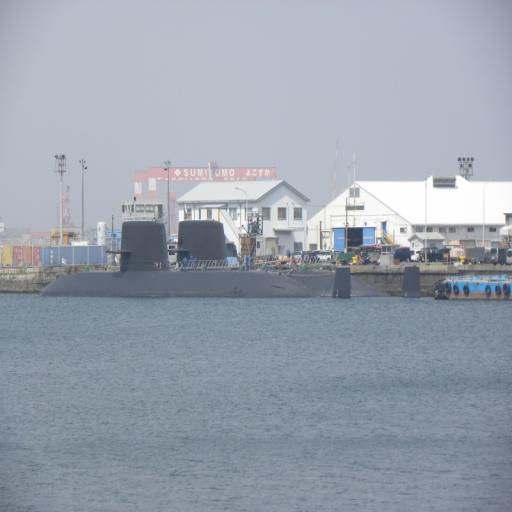submarine: (36, 223, 351, 299), (178, 221, 423, 296)
